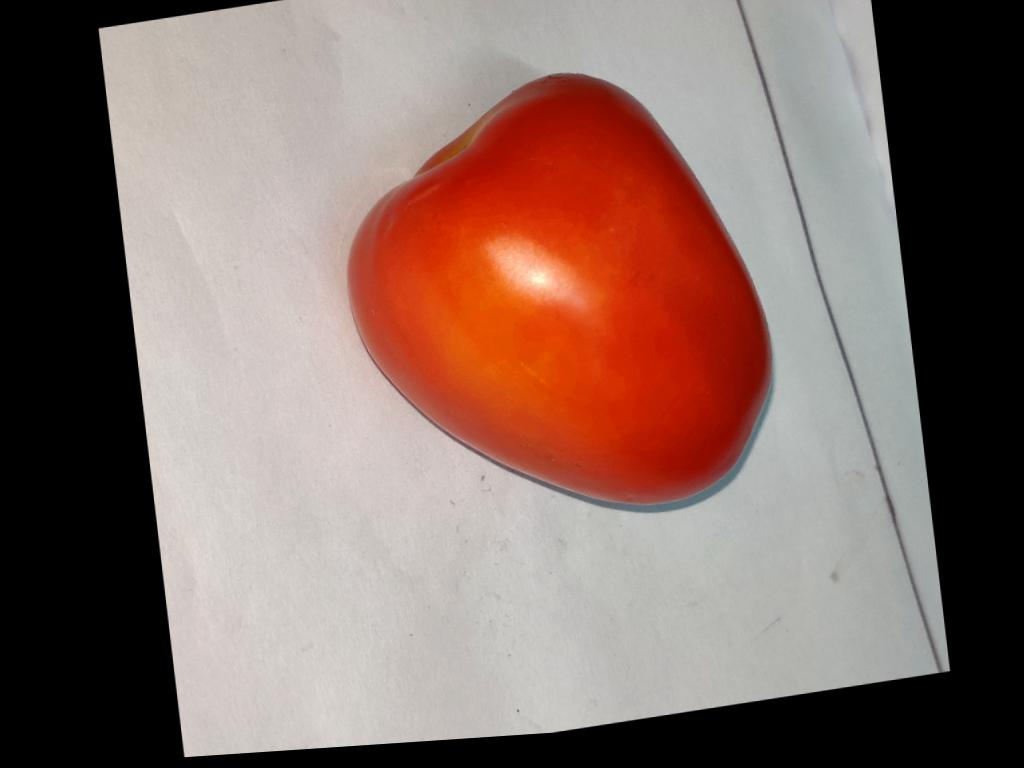tomato: (347, 74, 769, 504)
